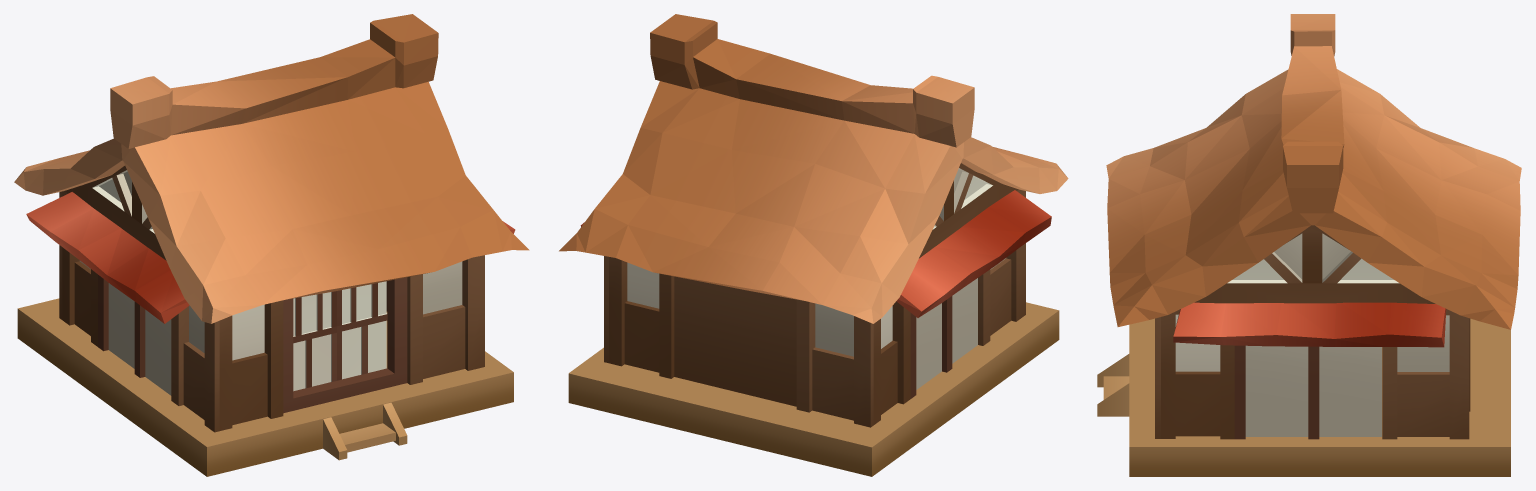
File: House_4x4.fbx
The picture shows the model from 3 angles, left to right: view 1: azimuth 30°, elevation 25°; view 2: azimuth 150°, elevation 25°; view 3: azimuth 270°, elevation 25°; orthographic projection.
Parts seen in each view (by area): view 1: House_4x4_RoofOnly.001, House_4x4_Base.001, House_Wall_Corner.001, House_Wall_Corner.004, House_4x4_LowerRoof.002, House_Door_2m_Sliding_Frame.001, House_Door_Sliding_R.001, House_Door_Sliding_L.001, House_4x4_Gable.001, House_Wall_Corner.002, House_Wall_1m.004, House_Wall_1m.001; view 2: House_4x4_RoofOnly.001, House_4x4_Base.001, House_Wall_2m_Brown.001, House_Wall_Corner.002, House_4x4_LowerRoof.002, House_Wall_Corner.003, House_Wall_Corner.001, House_4x4_Gable.001, House_Wall_1m.004, House_Wall_1m.001; view 3: House_4x4_RoofOnly.001, House_4x4_Base.001, House_4x4_LowerRoof.001, House_4x4_Gable.002, House_Wall_Corner.003, House_Wall_Corner.004, House_Wall_1m.003, House_Wall_1m.002.
Part boxes in pixels (x1=…): House_4x4_RoofOnly.001: x1=14, y1=14, x2=529, y2=323; House_4x4_Base.001: x1=17, y1=298, x2=513, y2=476; House_Wall_Corner.001: x1=171, y1=300, x2=283, y2=432; House_Wall_Corner.004: x1=407, y1=255, x2=484, y2=384; House_4x4_LowerRoof.002: x1=26, y1=192, x2=189, y2=323; House_Door_2m_Sliding_Frame.001: x1=283, y1=277, x2=407, y2=413; House_Door_Sliding_R.001: x1=337, y1=281, x2=387, y2=380; House_Door_Sliding_L.001: x1=293, y1=291, x2=336, y2=391; House_4x4_Gable.001: x1=65, y1=166, x2=166, y2=260; House_Wall_Corner.002: x1=59, y1=191, x2=97, y2=346; House_Wall_1m.004: x1=134, y1=302, x2=171, y2=395; House_Wall_1m.001: x1=98, y1=275, x2=134, y2=368; House_4x4_RoofOnly.001: x1=559, y1=14, x2=1068, y2=323; House_4x4_Base.001: x1=568, y1=302, x2=1059, y2=476; House_Wall_2m_Brown.001: x1=674, y1=276, x2=796, y2=406; House_Wall_Corner.002: x1=796, y1=299, x2=910, y2=427; House_4x4_LowerRoof.002: x1=896, y1=190, x2=1051, y2=317; House_Wall_Corner.003: x1=604, y1=256, x2=674, y2=378; House_Wall_Corner.001: x1=978, y1=189, x2=1025, y2=345; House_4x4_Gable.001: x1=919, y1=163, x2=1018, y2=258; House_Wall_1m.004: x1=942, y1=278, x2=977, y2=372; House_Wall_1m.001: x1=910, y1=303, x2=941, y2=398; House_4x4_RoofOnly.001: x1=1106, y1=14, x2=1521, y2=329; House_4x4_Base.001: x1=1097, y1=318, x2=1510, y2=476; House_4x4_LowerRoof.001: x1=1173, y1=302, x2=1446, y2=347; House_4x4_Gable.002: x1=1194, y1=225, x2=1435, y2=303; House_Wall_Corner.003: x1=1382, y1=309, x2=1470, y2=439; House_Wall_Corner.004: x1=1155, y1=309, x2=1234, y2=439; House_Wall_1m.003: x1=1234, y1=345, x2=1308, y2=439; House_Wall_1m.002: x1=1308, y1=346, x2=1381, y2=439.
Size of the model in its own units: 5.54 by 4.76 by 5.76.
1 material, 1 textured.
